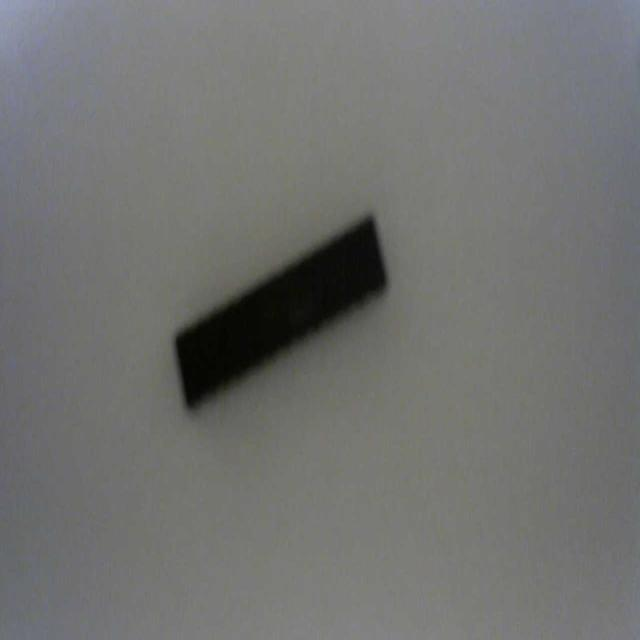atmega: (171, 208, 391, 413)
